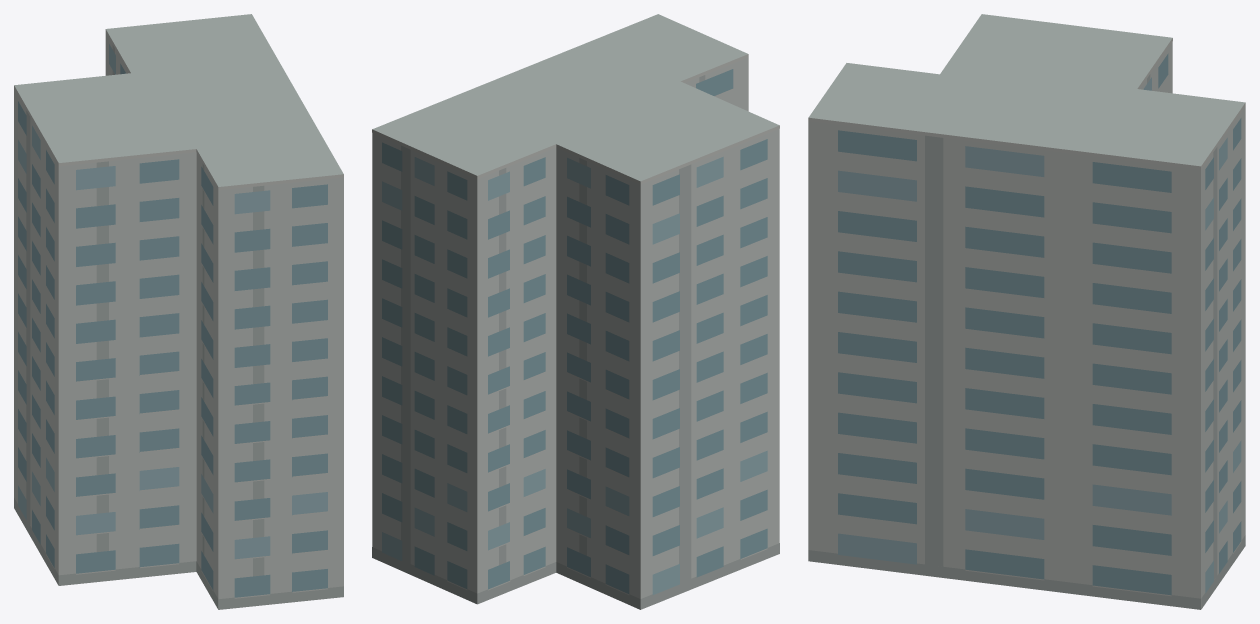
Rendered from residential-f83100c6-f5cb-4468-a014-bcc0236563e8.glb.
3 renders of one model, left to right at view 1: azimuth 30°, elevation 25°; view 2: azimuth 150°, elevation 25°; view 3: azimuth 270°, elevation 25°, orthographic. The views are drawn at different scales.
Parts seen in each view (by area): view 1: residential-f83100c6-f5cb-4468-a014-bcc0236563e8.tmp; view 2: residential-f83100c6-f5cb-4468-a014-bcc0236563e8.tmp; view 3: residential-f83100c6-f5cb-4468-a014-bcc0236563e8.tmp.
Part boxes in pixels (<box>): residential-f83100c6-f5cb-4468-a014-bcc0236563e8.tmp: <box>14,14,343,609</box>; residential-f83100c6-f5cb-4468-a014-bcc0236563e8.tmp: <box>372,14,779,609</box>; residential-f83100c6-f5cb-4468-a014-bcc0236563e8.tmp: <box>808,14,1245,609</box>.
Size of the model in its own units: 22.85 by 31 by 27.7.
